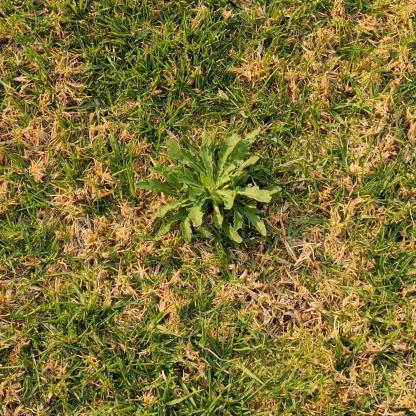Weeds: (134, 126, 283, 244)
